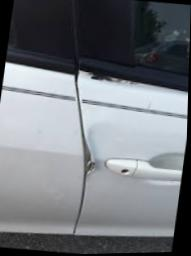Door: (47, 117, 134, 210), (66, 58, 176, 98)
